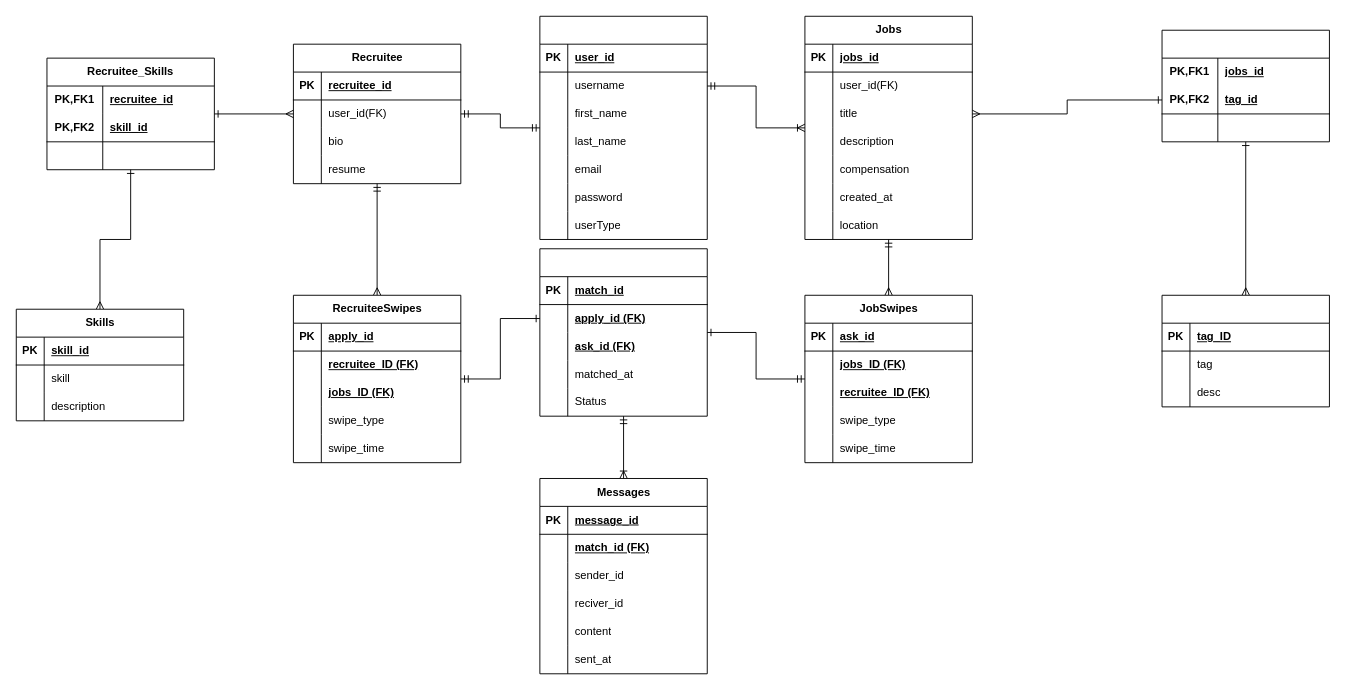
Image size: 1346x690. Some labels were removed from this diagram. The shapes that lost their labels are listed below. From the top down, each one's box as (x1, y1, x2, y2) in pixels, then its label:
(1161, 29, 1329, 142): Jobs_tag
(539, 15, 707, 239): Users
(539, 248, 707, 416): Matches
(1161, 294, 1329, 407): tags
